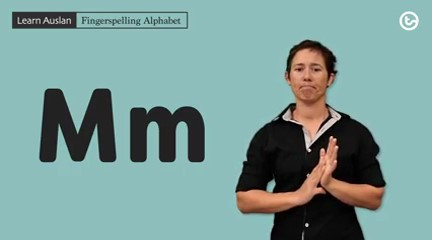M: (299, 134, 340, 206)
